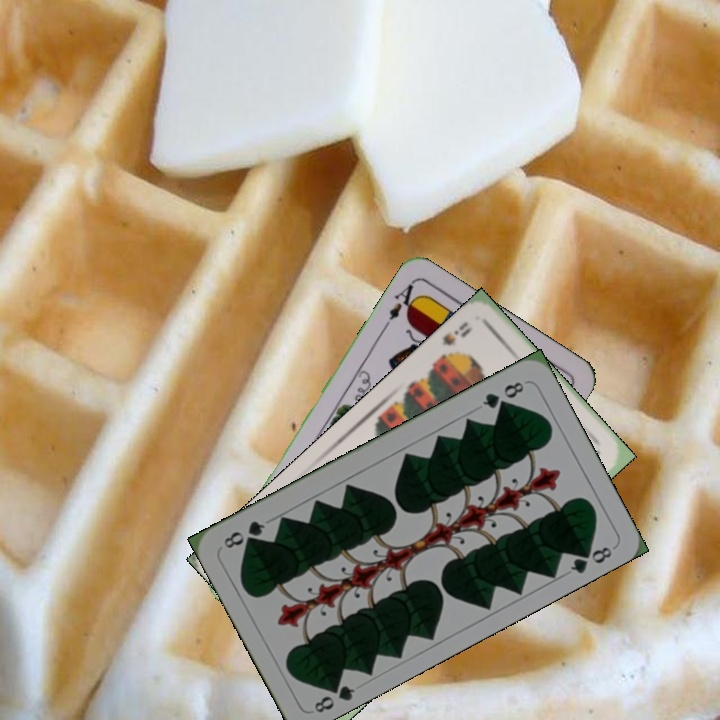EA: (384, 278, 423, 323)
G8: (310, 676, 358, 716), (478, 377, 527, 412)
S9: (432, 317, 475, 364)
